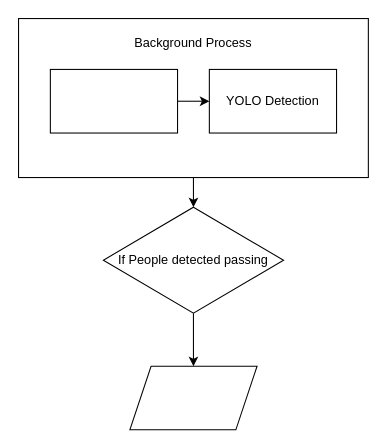
Some shapes in this 387 by 448 pixel diagram are drawn without their labels. The centre of each missing label's shape, as x and y in pixels:
Detection Table: the point at 193,397
Live Feed: the point at 113,100
